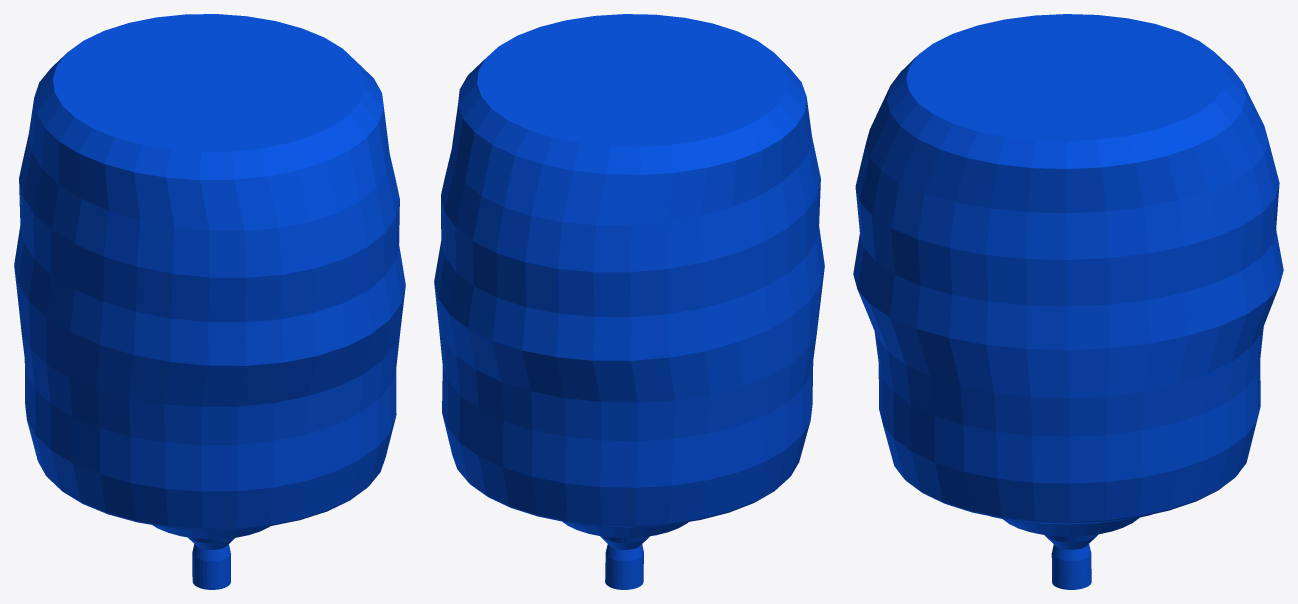
The model's file is Galon.fbx.
3 views of the same model, side by side, from view 1: azimuth 30°, elevation 25°; view 2: azimuth 150°, elevation 25°; view 3: azimuth 270°, elevation 25° (orthographic).
Visible parts, largest first — view 1: Cylinder; view 2: Cylinder; view 3: Cylinder.
Boxes of the visible parts, x1,y1,x2,y2 form: Cylinder: [14, 14, 405, 589]; Cylinder: [434, 14, 824, 589]; Cylinder: [853, 14, 1283, 589].
Bounding box in the file's own units: 76.02 × 112 × 86.49.
